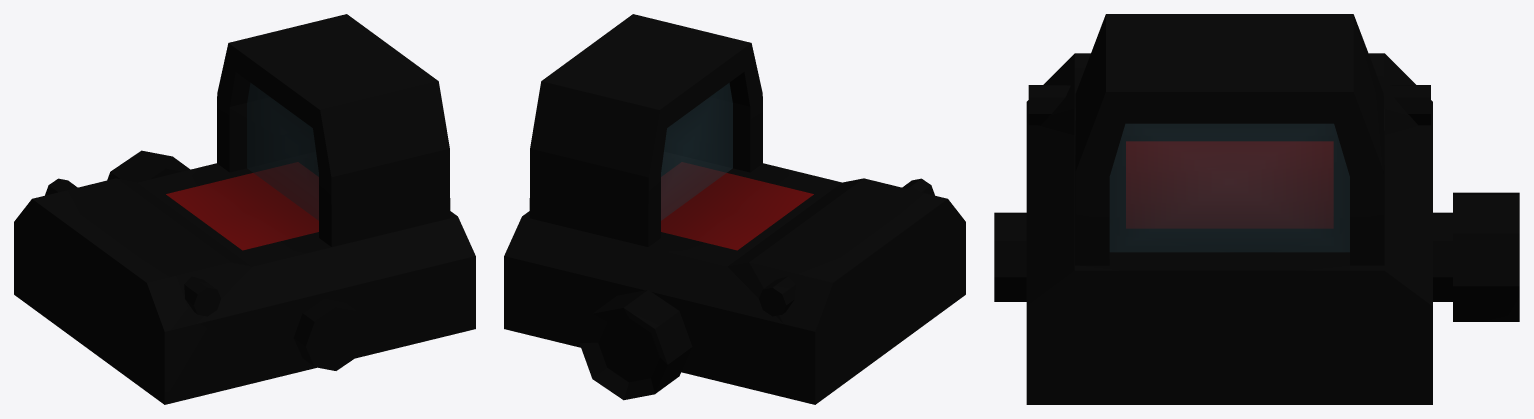
Rendered from k-att-reflex-east.glb.
The picture shows the model from 3 angles, left to right: view 1: azimuth 30°, elevation 25°; view 2: azimuth 150°, elevation 25°; view 3: azimuth 270°, elevation 25°; orthographic projection. The views are drawn at different scales.
Parts seen in each view (by area): view 1: kit (×3), lens; view 2: kit (×3), lens; view 3: kit (×3), lens.
Boxes of the visible parts, bbox=[...] form: kit (×3): bbox=[14, 14, 475, 404]; lens: bbox=[247, 83, 318, 220]; kit (×3): bbox=[504, 14, 965, 404]; lens: bbox=[661, 83, 732, 220]; kit (×3): bbox=[994, 14, 1519, 404]; lens: bbox=[1109, 123, 1349, 252].
Bounding box in the file's own units: 0.057 × 0.0418 × 0.0618.
